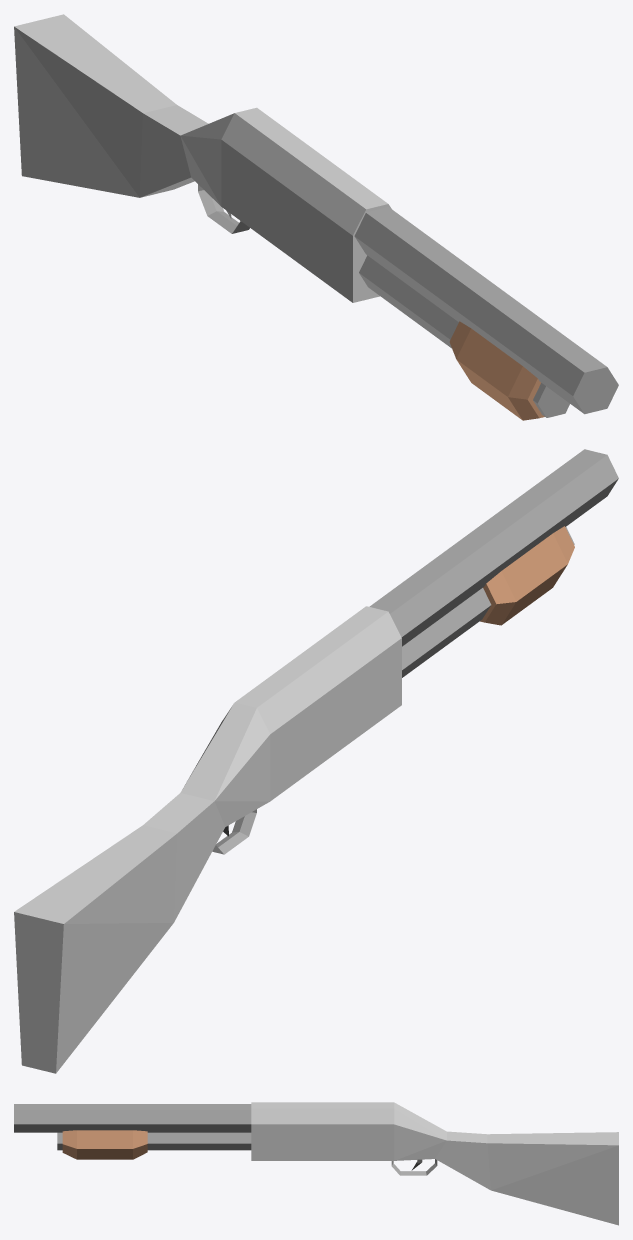
File: GunPump3.glb
The picture shows the model from 3 angles, top to bottom: view 1: azimuth 30°, elevation 25°; view 2: azimuth 150°, elevation 25°; view 3: azimuth 270°, elevation 25°; orthographic projection. The views are drawn at different scales.
Parts seen in each view (by area): view 1: TacticalPump_Body, TacticalPump_Pump; view 2: TacticalPump_Body, TacticalPump_Pump; view 3: TacticalPump_Body, TacticalPump_Pump.
Part boxes in pixels (x1,y1,x2,y2): TacticalPump_Body: [14, 14, 618, 417]; TacticalPump_Pump: [449, 321, 544, 420]; TacticalPump_Body: [14, 449, 618, 1073]; TacticalPump_Pump: [480, 526, 574, 625]; TacticalPump_Body: [14, 1102, 618, 1225]; TacticalPump_Pump: [62, 1130, 147, 1159].
Size of the model in its own units: 0.0354 by 0.1198 by 0.5678.
